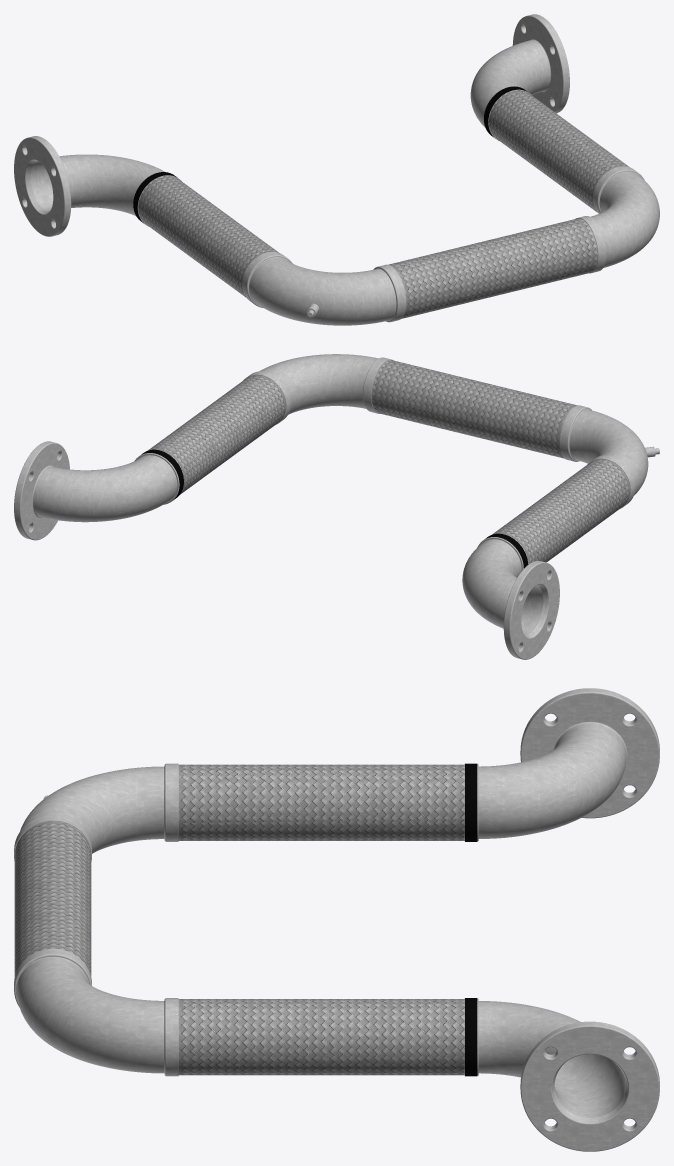
Rendered from Tri Flex Loop.fbx.
3 renders of one model, top to bottom at view 1: azimuth 30°, elevation 25°; view 2: azimuth 150°, elevation 25°; view 3: azimuth 270°, elevation 25°, orthographic. The views are drawn at different scales.
Parts seen in each view (by area): view 1: Hose, elbow2, inlet2, inlet1, elbow1; view 2: Hose, inlet1, inlet2, elbow1, elbow2; view 3: Hose, inlet1, inlet2, elbow1, elbow2, brushed magnesium : Product%20levelArtboard%20yellow - 2 : D, brushed nickel : Product%20levelArtboard%20USA - 1 : Default.
Part boxes in pixels (x1,y1,x2,y2): Hose: (138,90,629,318); elbow2: (242,252,406,325); inlet2: (14,136,181,236); inlet1: (470,14,569,140); elbow1: (575,166,659,273); Hose: (147,360,630,564); inlet1: (14,441,181,540); inlet2: (462,537,559,659); elbow1: (243,354,393,424); elbow2: (559,405,659,508); Hose: (14,764,464,1075); inlet1: (464,998,659,1151); inlet2: (464,688,659,841); elbow1: (14,949,178,1076); elbow2: (14,763,178,861); brushed magnesium : Product%20levelArtboard%20yellow - 2 : D: (465,763,477,819); brushed nickel : Product%20levelArtboard%20USA - 1 : Default: (465,998,477,1053).
Bounding box in the file's own units: 57.35 × 10 × 46.3.
4 materials, 2 textured.
